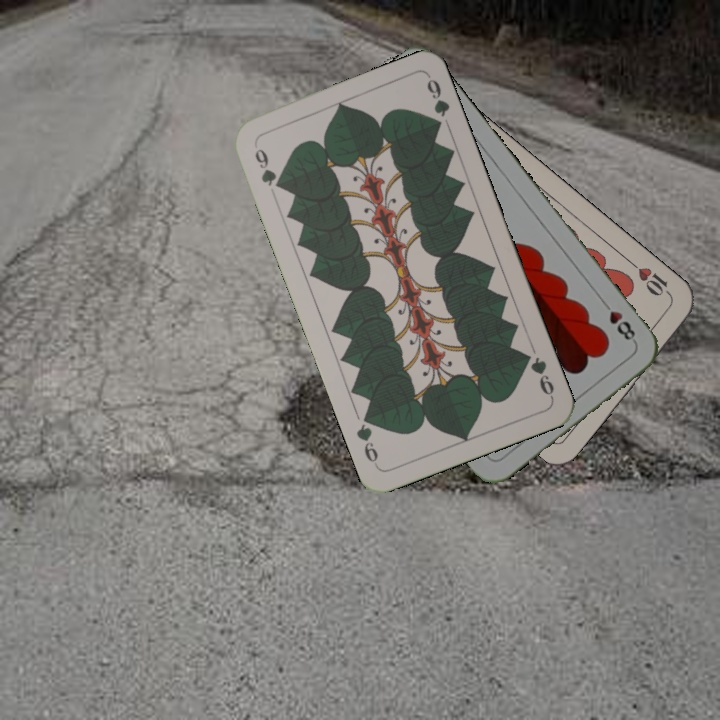G9: (518, 348, 557, 401), (251, 144, 285, 192)
H10: (626, 257, 675, 301)
H8: (597, 296, 639, 346)
